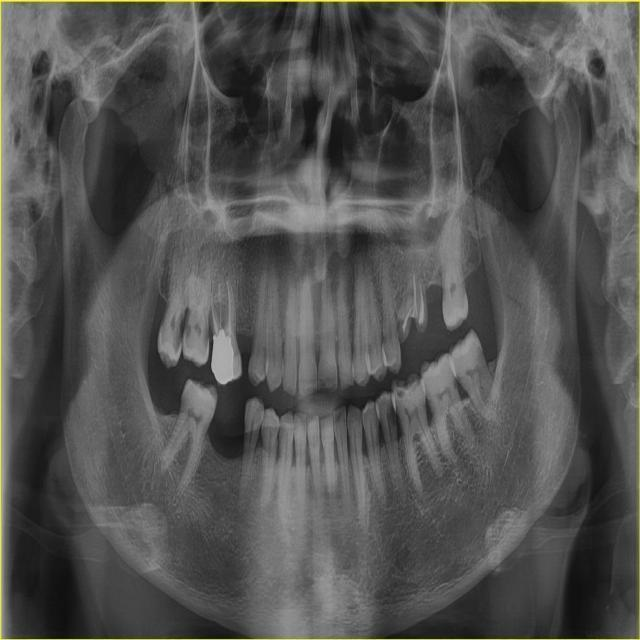Caries: (394, 377, 418, 403), (172, 308, 184, 359), (183, 306, 192, 342), (202, 320, 209, 352), (389, 400, 396, 426), (453, 375, 458, 390)
Filling: (211, 329, 234, 383)
Missing teeth: (205, 399, 247, 457)
Root Canal Treatment: (211, 290, 219, 335), (226, 281, 231, 336), (218, 285, 222, 326)
Root Piece: (397, 296, 414, 342), (410, 267, 423, 322), (416, 280, 429, 334)
